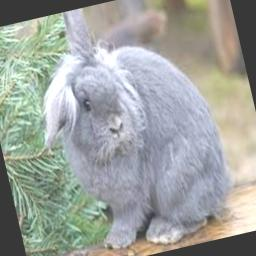rabbit: (43, 8, 230, 247)
